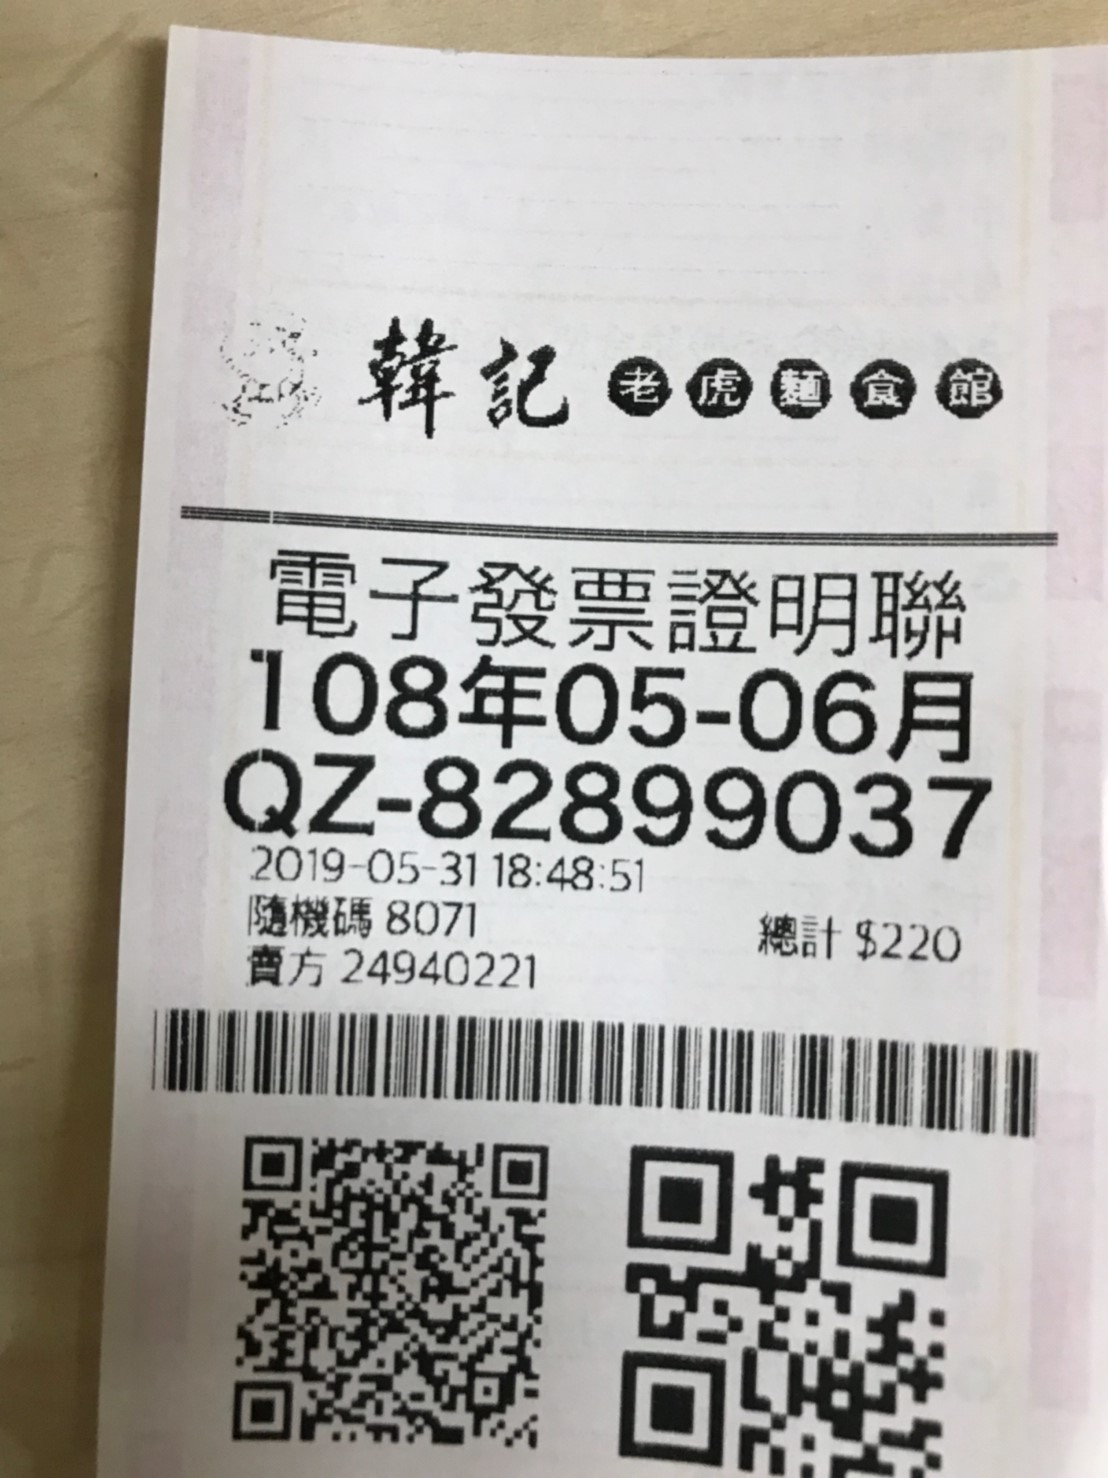Date_New: (242, 644, 975, 765)
Number_New: (417, 753, 992, 864)
